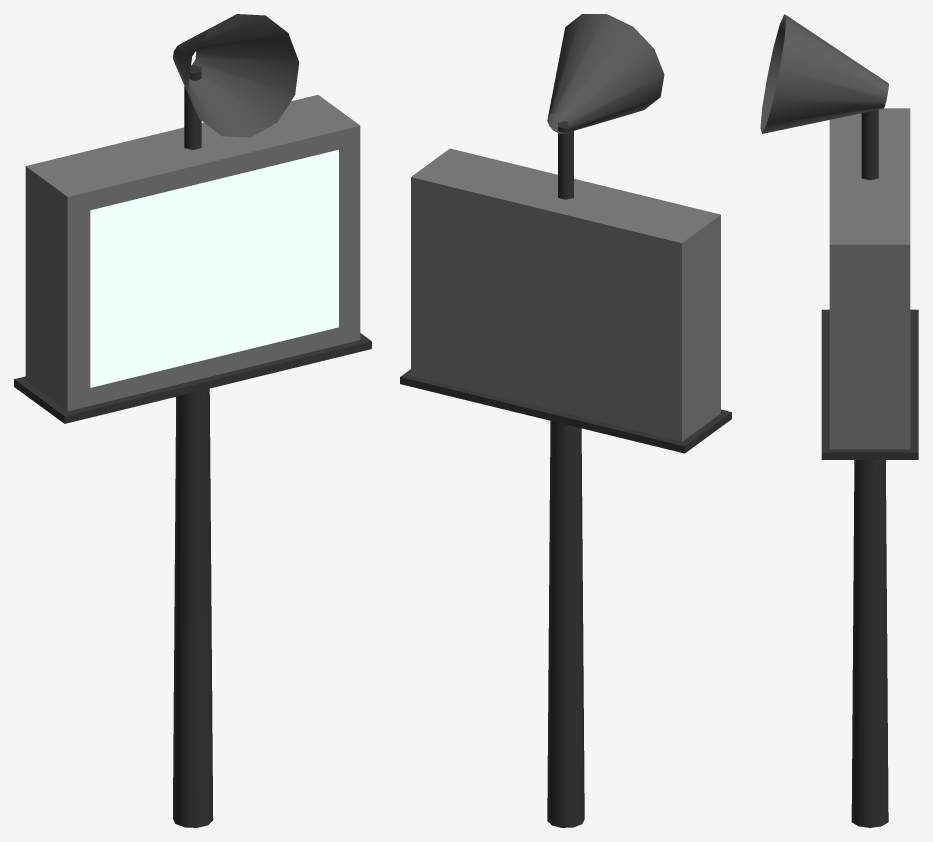
Rendered from telescreen_pole.glb.
3 renders of one model, left to right at view 1: azimuth 30°, elevation 25°; view 2: azimuth 150°, elevation 25°; view 3: azimuth 270°, elevation 25°, orthographic. The views are drawn at different scales.
Parts seen in each view (by area): view 1: telescreen_pole; view 2: telescreen_pole; view 3: telescreen_pole.
Part boxes in pixels (x1,y1,x2,y2): telescreen_pole: (14, 14, 371, 827); telescreen_pole: (400, 14, 731, 827); telescreen_pole: (760, 14, 918, 827).
Size of the model in its own units: 2.1 by 5.47 by 0.9799.
